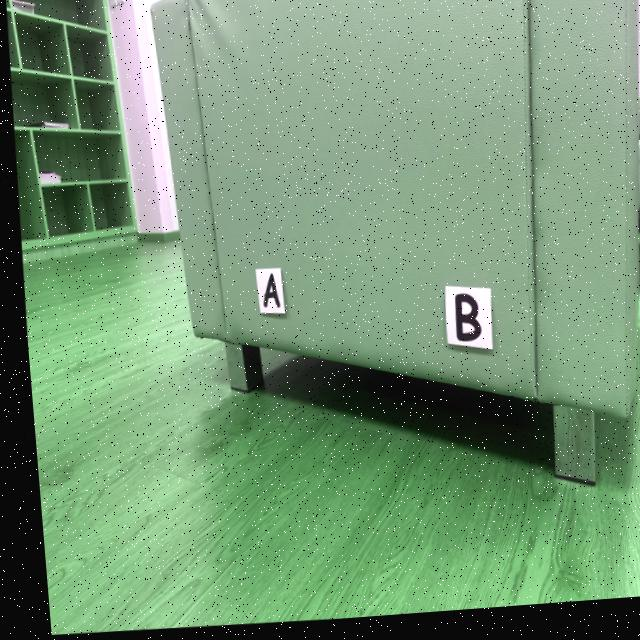A: (257, 276, 274, 311)
B: (449, 300, 474, 348)
